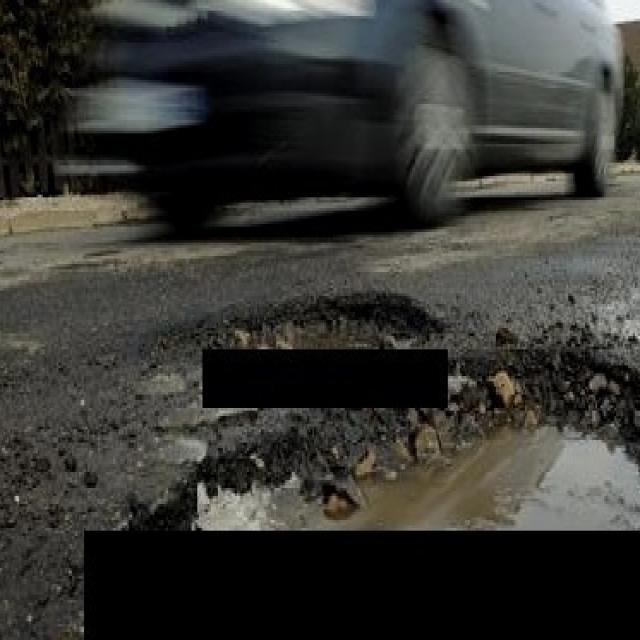road-pothole: (141, 349, 638, 528), (208, 286, 435, 348)
